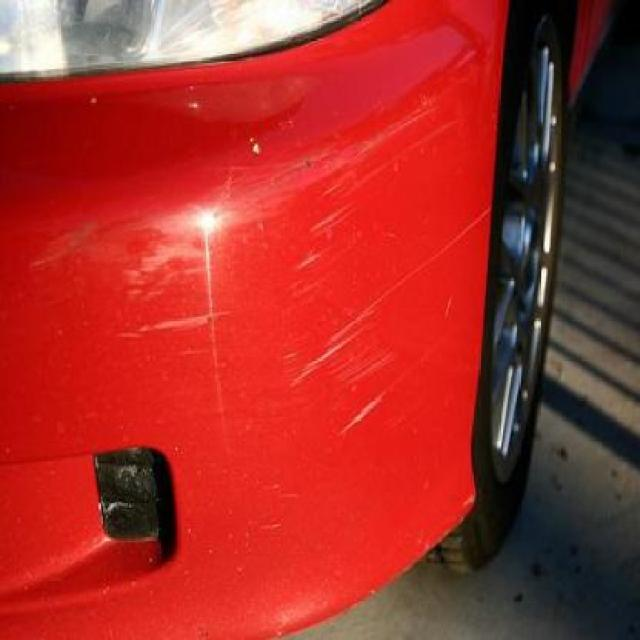scratch: (193, 214, 493, 435), (262, 116, 461, 214)
